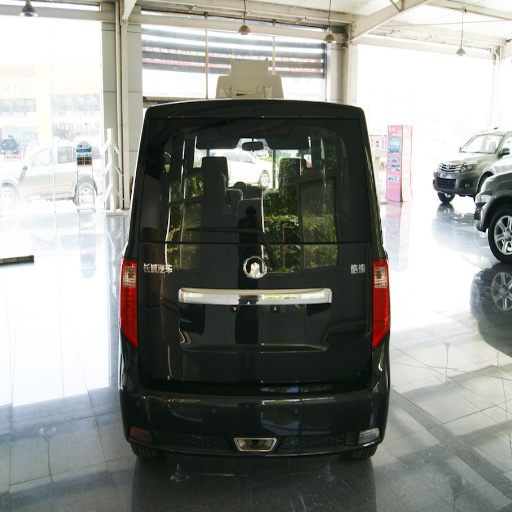back_bumper: (121, 349, 384, 454)
